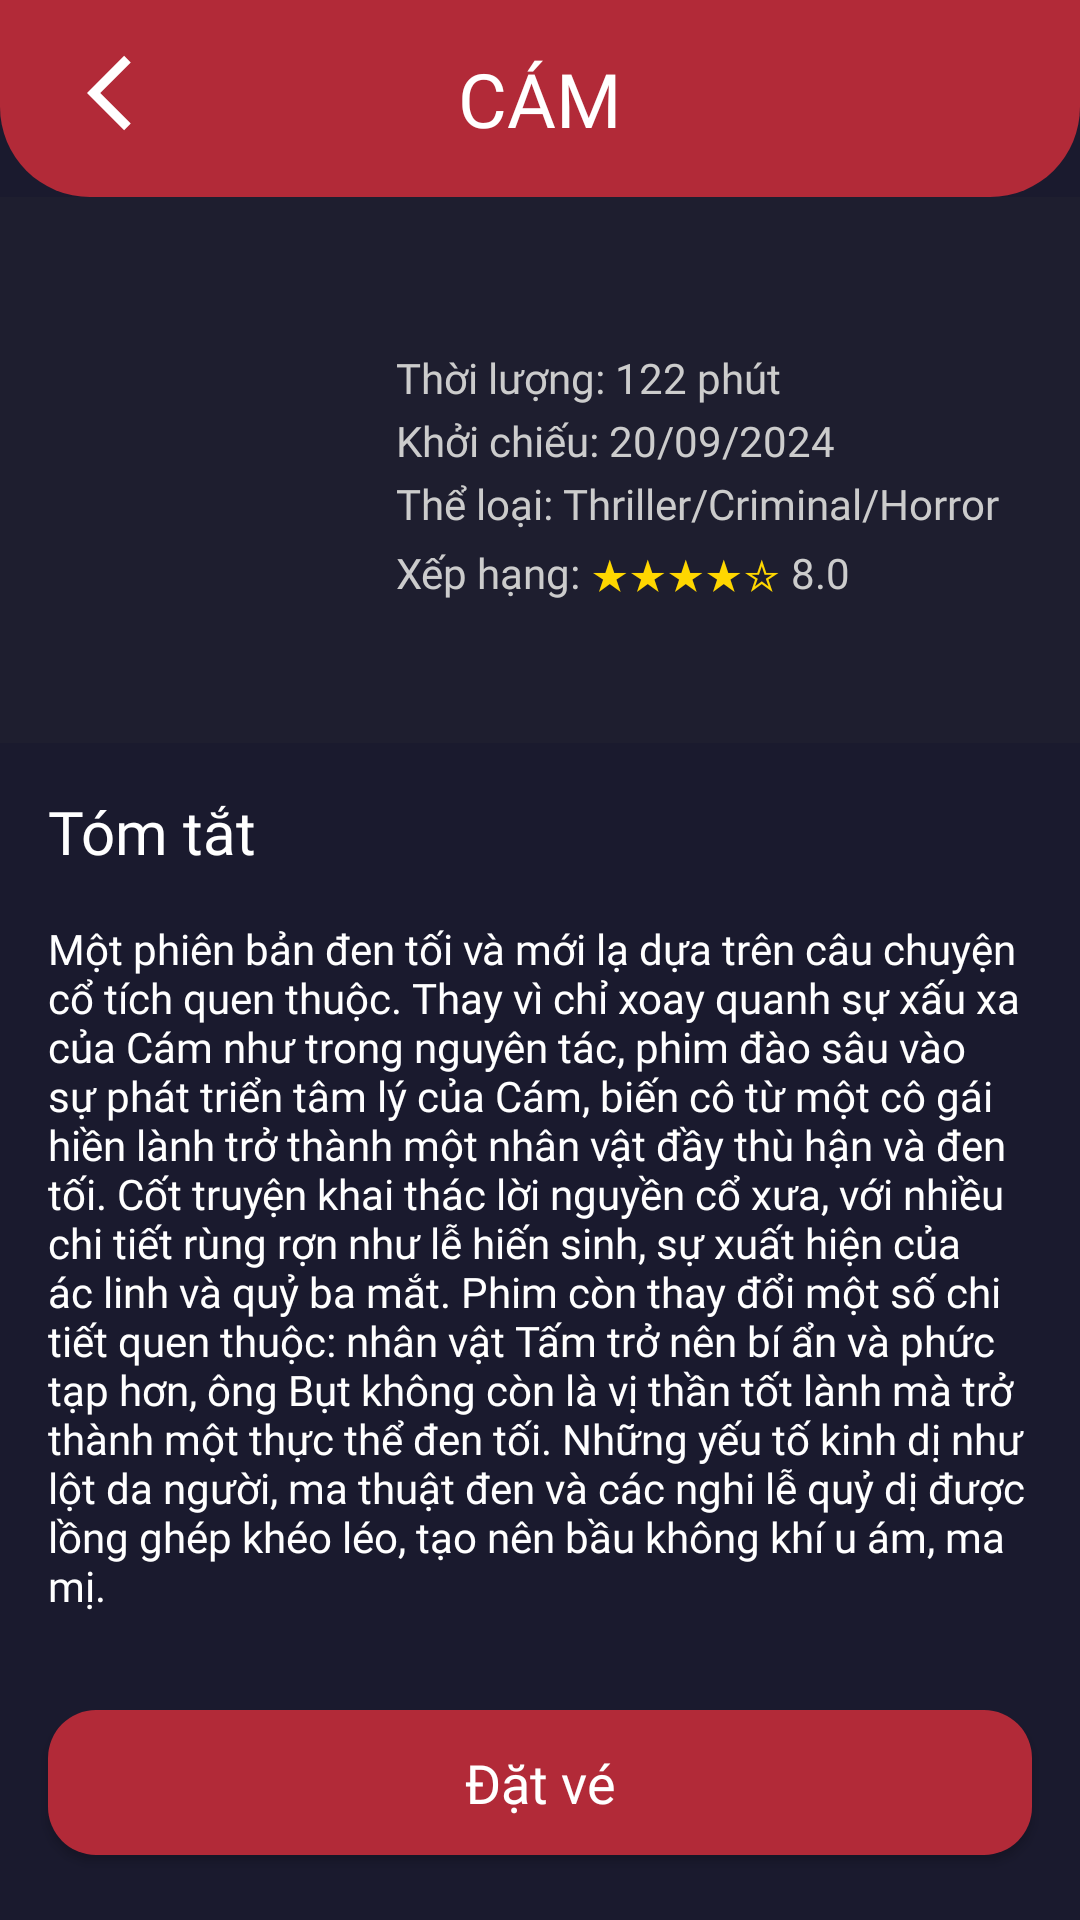

Locate icon controls on the screen. Image size 1080px x 1920px, boxes as (x1, y1, x2, y2).
back arrow: (87, 56, 131, 130)
